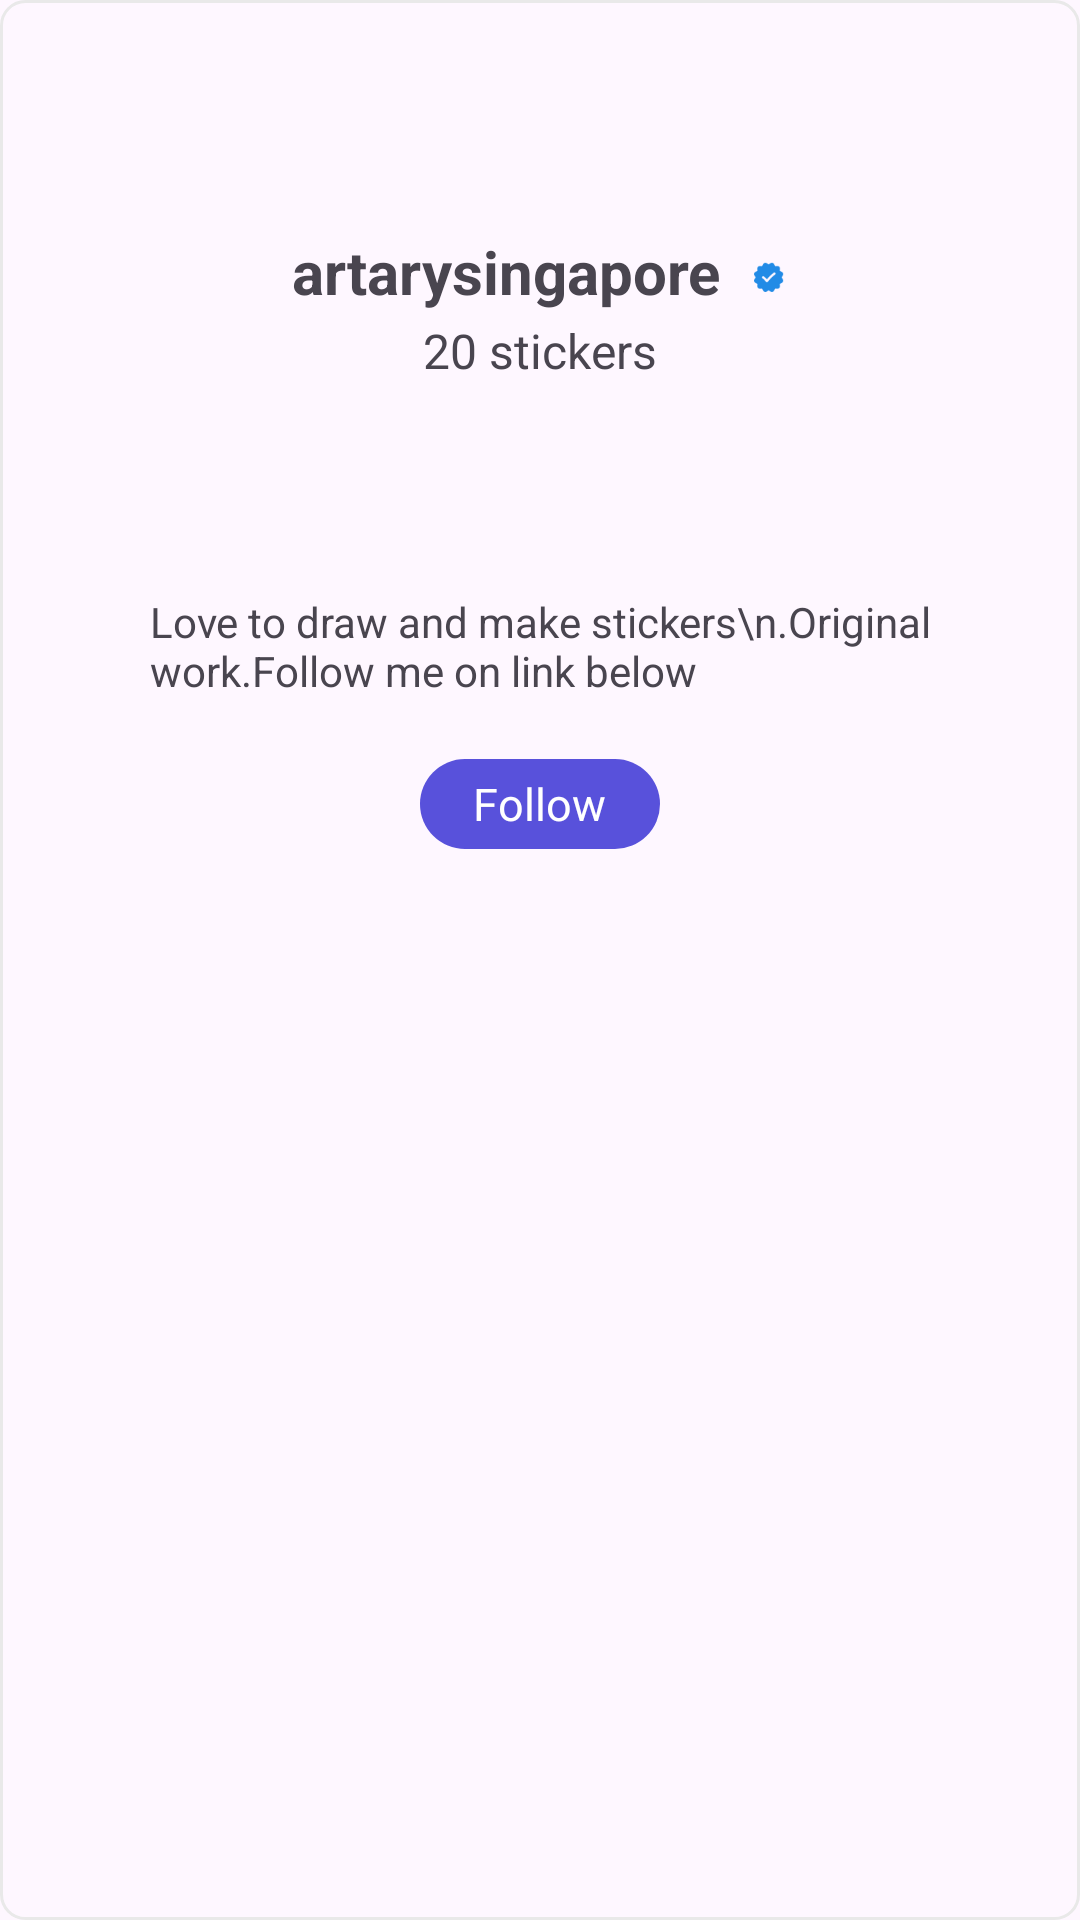

Icons on this 1080 x 1920 Android screen, each with its box as (left=x1, top=y1, right=x2, bottom=y2):
check mark: (left=754, top=262, right=784, bottom=292)
